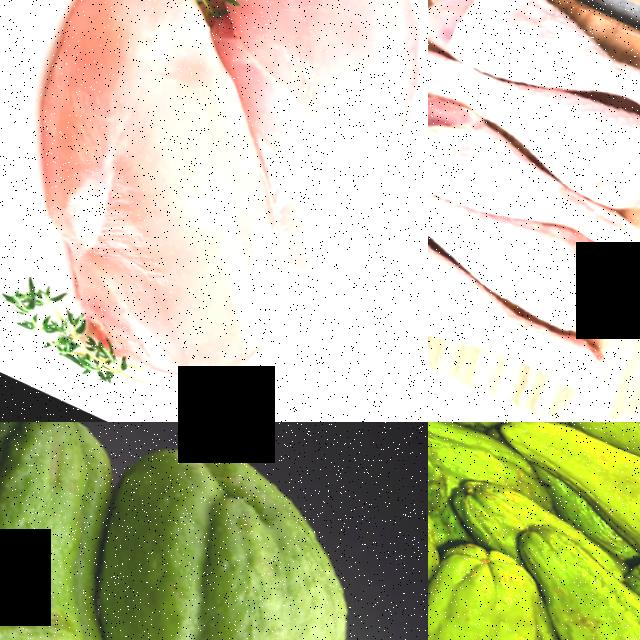chayote: (62, 422, 428, 640), (0, 422, 187, 640), (489, 422, 640, 570), (512, 519, 640, 640), (428, 422, 494, 617)
chicken breast: (0, 21, 310, 422), (186, 0, 428, 295)
chicken thigh: (428, 11, 640, 224), (428, 195, 623, 422), (428, 138, 640, 344), (428, 65, 637, 269), (428, 0, 640, 161)
